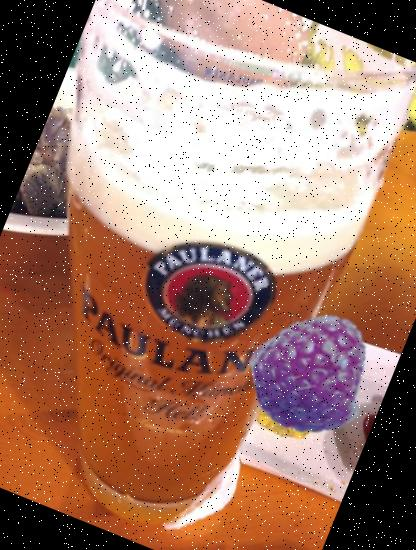Raspberry: (235, 298, 390, 453)
